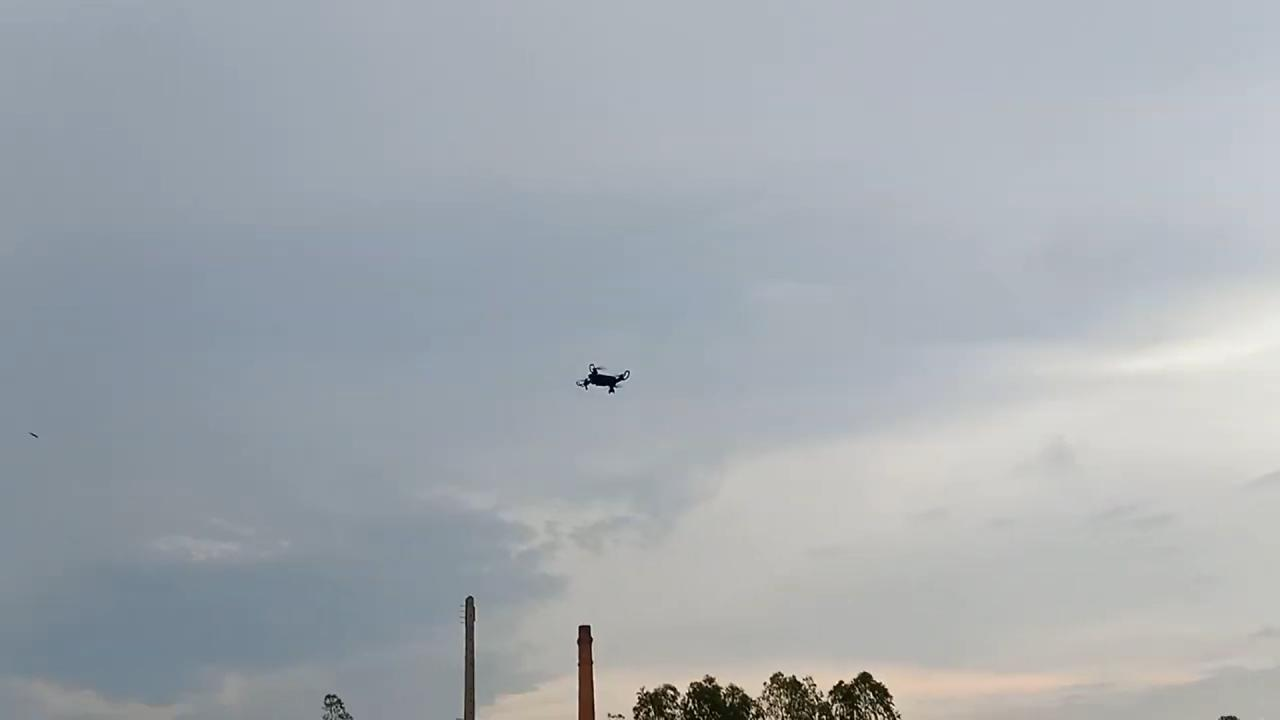Drone: (565, 352, 642, 403)
